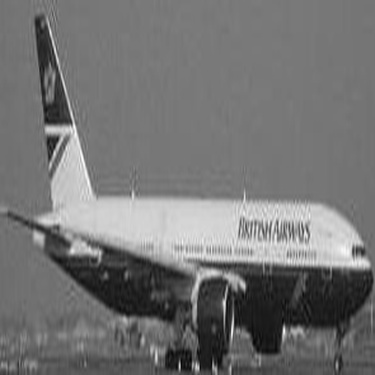airplane: (2, 2, 371, 370)
